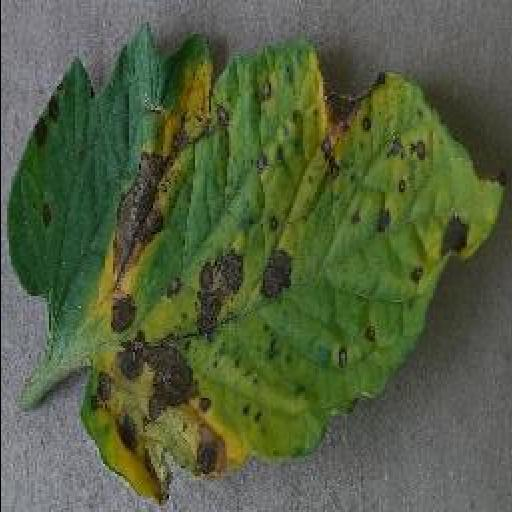disease_tomato: (7, 31, 501, 507)
